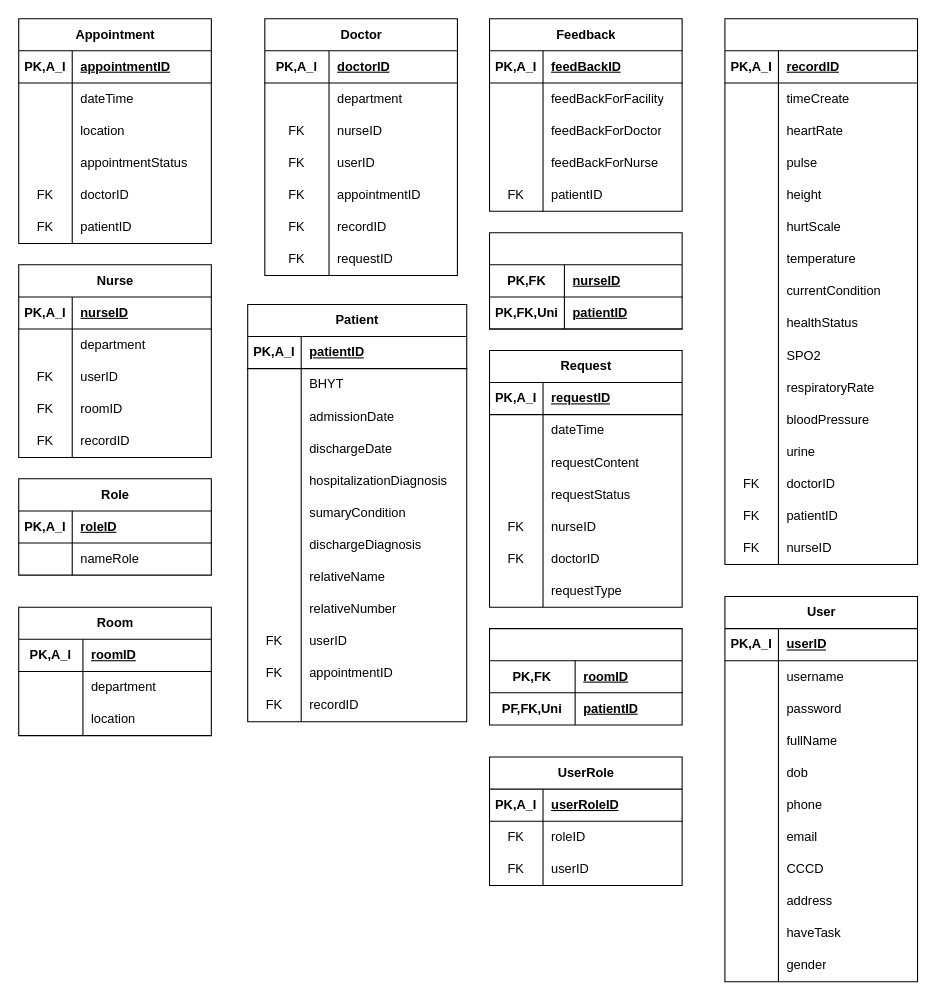
Some shapes in this 936 by 1000 pixel diagram are drawn without their labels. The shapes that lost their labels are listed below. From the top down, each one's box as (x1, y1, x2, y2) in pixels, then its label:
(488, 232, 682, 329): NursePatient
(724, 18, 918, 564): MedicalRecord
(488, 628, 682, 725): RoomPatient
